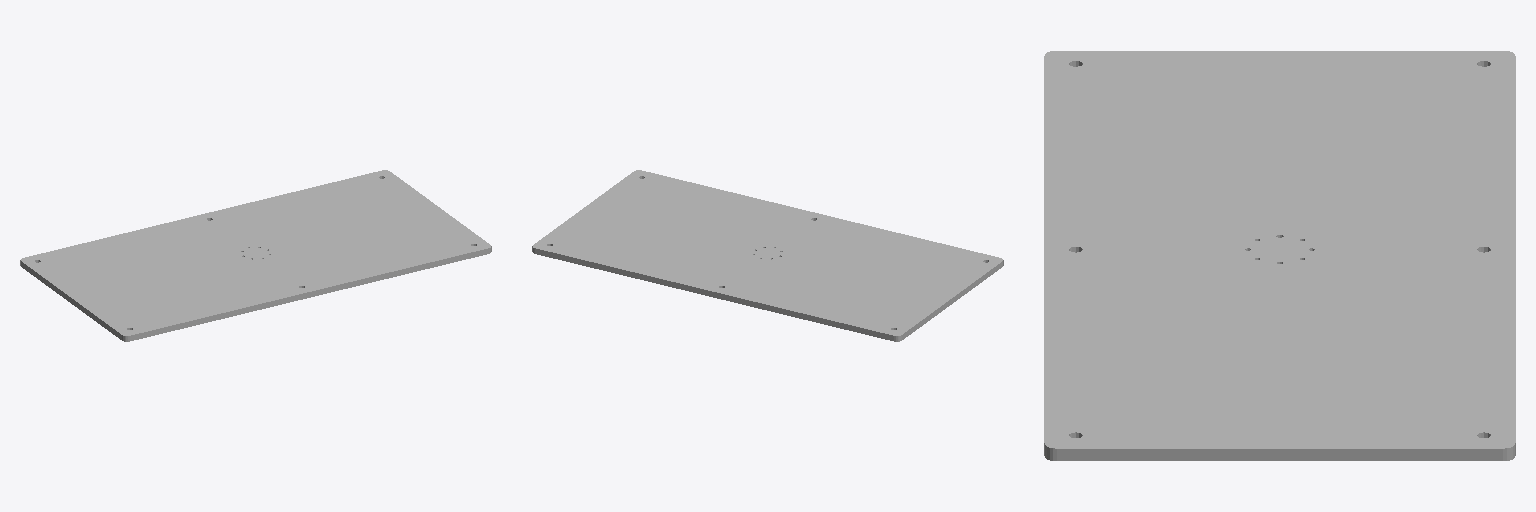
The robot description file, URDF, robot "test_gipper":
<?xml version="1.0" encoding="utf-8"?>
<!-- This URDF was automatically created by SolidWorks to URDF Exporter! Originally created by [author] ([email redacted]) 
     Commit Version: 1.6.0-1-g15f4949  Build Version: 1.6.7594.29634
     For more information, please see http://wiki.ros.org/sw_urdf_exporter -->
<robot
  name="test_gipper">
  <link
    name="gripper">
    <inertial>
      <origin
        xyz="6.2225E-07 3.3307E-16 0.0045"
        rpy="0 0 0" />
      <mass
        value="1.6154" />
      <inertia
        ixx="0.011286"
        ixy="0"
        ixz="0"
        iyy="0.044568"
        iyz="0"
        izz="0.055851" />
    </inertial>
    <visual>
      <origin
        xyz="0 0 0"
        rpy="0 0 0" />
      <geometry>
        <mesh
          filename="package://test_gipper/meshes/gripper.STL" />
      </geometry>
      <material
        name="">
        <color
          rgba="0.75294 0.75294 0.75294 1" />
      </material>
    </visual>
    <collision>
      <origin
        xyz="0 0 0"
        rpy="0 0 0" />
      <geometry>
        <mesh
          filename="package://test_gipper/meshes/gripper.STL" />
      </geometry>
    </collision>
  </link>
</robot>

--- Facts derived from the render (not from the file) ---
The picture shows the robot from 3 angles, left to right: view 1: azimuth 30°, elevation 25°; view 2: azimuth 150°, elevation 25°; view 3: azimuth 270°, elevation 25°; orthographic projection.
Model test_gipper with 1 links and 0 joints (none), rooted at gripper, posed all joints at 0.
Links seen in each view (by area): view 1: gripper; view 2: gripper; view 3: gripper.
Link boxes in pixels (x1,y1,x2,y2): gripper: (20, 170, 491, 341); gripper: (532, 170, 1003, 341); gripper: (1044, 51, 1515, 460).
Size in the robot's own frame: 0.6 by 0.3 by 0.009 metres.
1 mesh visuals loaded from 1 distinct referenced files (1 binary STL).